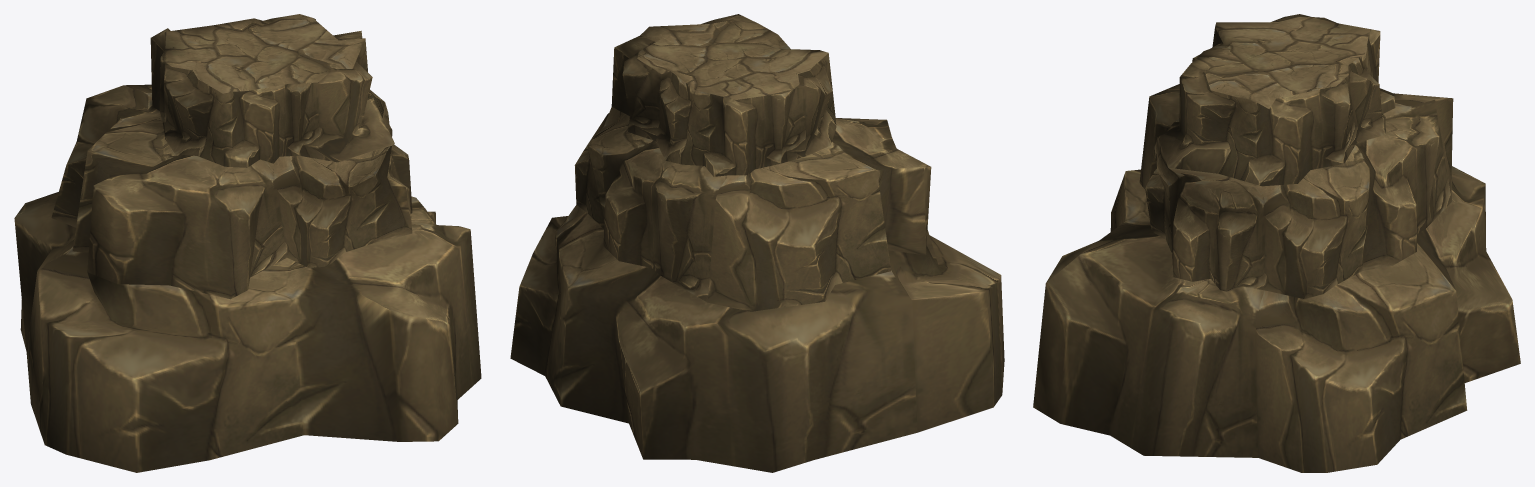
Rendered from D_dimian008.fbx.
3 views of the same model, side by side, from view 1: azimuth 30°, elevation 25°; view 2: azimuth 150°, elevation 25°; view 3: azimuth 270°, elevation 25° (orthographic). The views are drawn at different scales.
Parts seen in each view (by area): view 1: D_dimian008; view 2: D_dimian008; view 3: D_dimian008.
Part boxes in pixels (x1,y1,x2,y2): D_dimian008: (14, 14, 481, 472); D_dimian008: (510, 14, 1004, 472); D_dimian008: (1033, 14, 1520, 472).
Size of the model in its own units: 1842 by 1305 by 1762.
